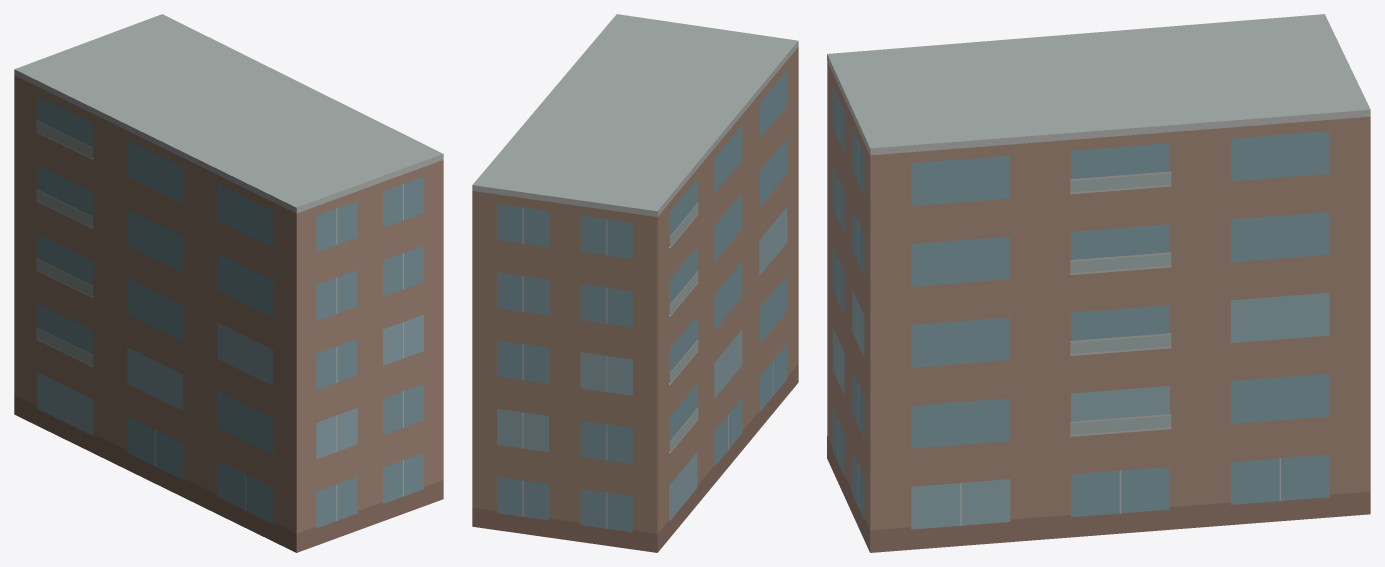
The model's file is survey-upis-32697695.glb.
3 views of the same model, side by side, from view 1: azimuth 30°, elevation 25°; view 2: azimuth 150°, elevation 25°; view 3: azimuth 270°, elevation 25° (orthographic). The views are drawn at different scales.
Visible parts, largest first — view 1: survey-upis-32697695.tmp; view 2: survey-upis-32697695.tmp; view 3: survey-upis-32697695.tmp.
Boxes of the visible parts, <box> form: survey-upis-32697695.tmp: <box>14,14,443,552</box>; survey-upis-32697695.tmp: <box>472,14,798,552</box>; survey-upis-32697695.tmp: <box>827,14,1370,552</box>.
Size of the model in its own units: 10.28 by 14.4 by 17.56.
